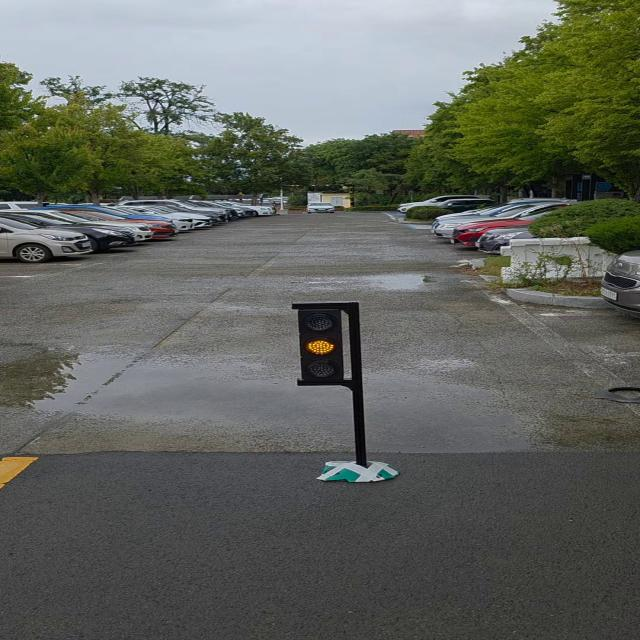yellow: (295, 305, 361, 386)
